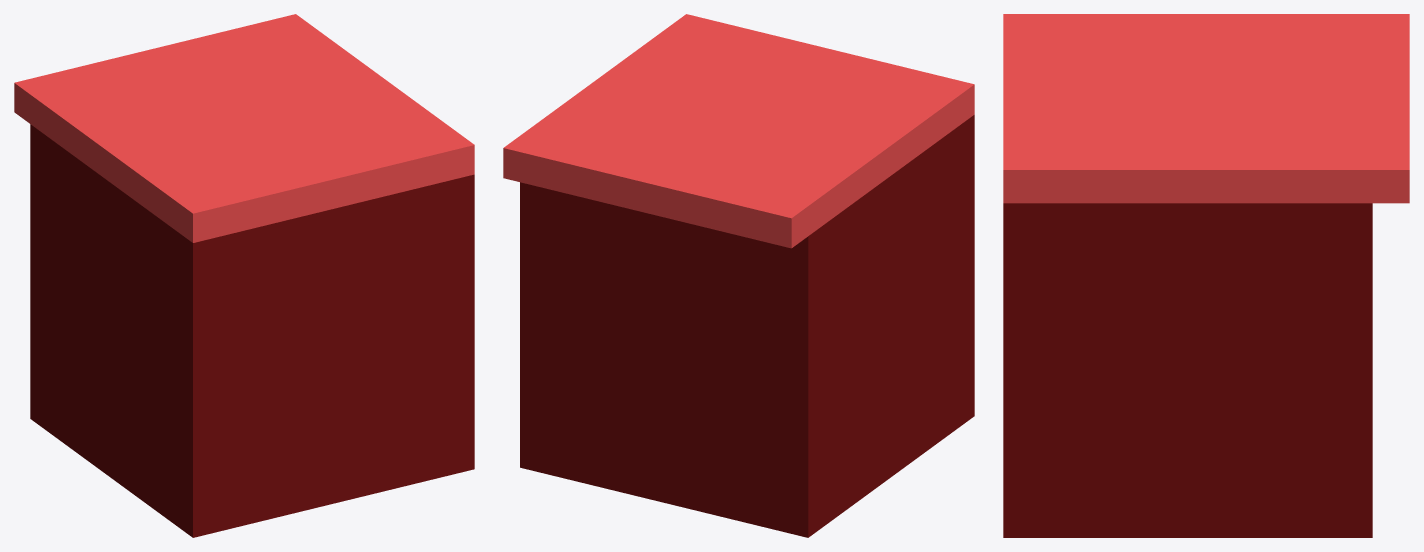
Rendered from Bench_01.fbx.
3 renders of one model, left to right at view 1: azimuth 30°, elevation 25°; view 2: azimuth 150°, elevation 25°; view 3: azimuth 270°, elevation 25°, orthographic. The views are drawn at different scales.
Parts seen in each view (by area): view 1: block_default_0, block_default_1; view 2: block_default_0, block_default_1; view 3: block_default_0, block_default_1.
Boxes of the visible parts, <box> form: block_default_0: <box>30,124,474,537</box>; block_default_1: <box>14,14,474,242</box>; block_default_0: <box>520,115,974,537</box>; block_default_1: <box>503,14,974,248</box>; block_default_0: <box>1003,203,1372,537</box>; block_default_1: <box>1003,14,1409,203</box>.
Size of the model in its own units: 10 by 11 by 11.
